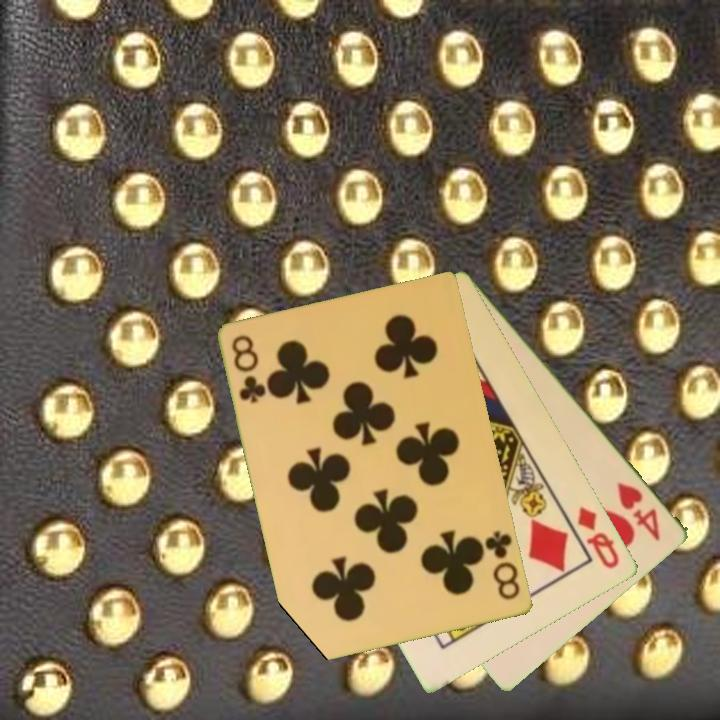4h: (614, 478, 664, 544)
8c: (481, 527, 523, 603), (228, 332, 269, 407)
Qd: (574, 503, 623, 572)
